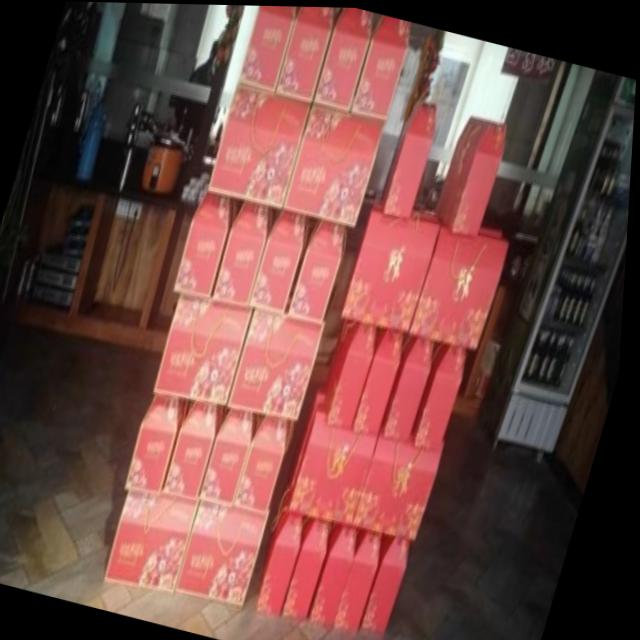box: (210, 81, 313, 208), (413, 216, 512, 348), (344, 201, 444, 330), (285, 100, 387, 226), (293, 384, 383, 525), (156, 290, 255, 404), (358, 422, 451, 543), (231, 305, 327, 418), (182, 498, 274, 606), (111, 489, 205, 589), (438, 113, 507, 234), (177, 187, 246, 296), (129, 395, 199, 492), (381, 97, 436, 217), (262, 480, 310, 616), (204, 407, 269, 506), (168, 399, 232, 497), (252, 208, 310, 313), (215, 200, 274, 303), (239, 412, 298, 512), (291, 217, 347, 320), (276, 5, 337, 99), (356, 324, 408, 434), (418, 339, 470, 447), (387, 329, 438, 439), (316, 6, 371, 108), (354, 13, 408, 116), (237, 5, 299, 92), (329, 318, 378, 427), (366, 534, 416, 635), (314, 520, 362, 625), (288, 515, 336, 620), (341, 524, 386, 629)
